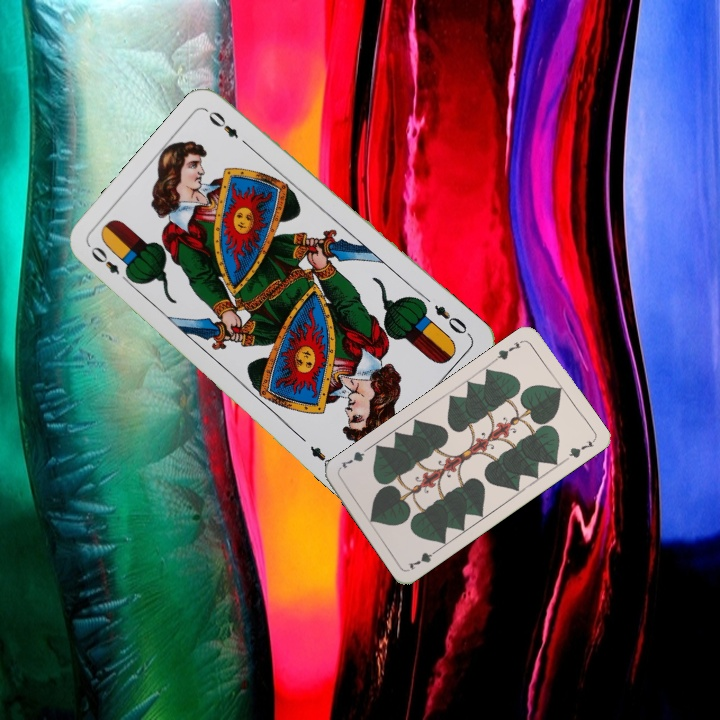EO: (86, 242, 135, 288), (430, 301, 474, 339)
G7: (404, 544, 442, 573), (490, 336, 526, 364)
